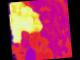Foc: (7, 0, 47, 47)
